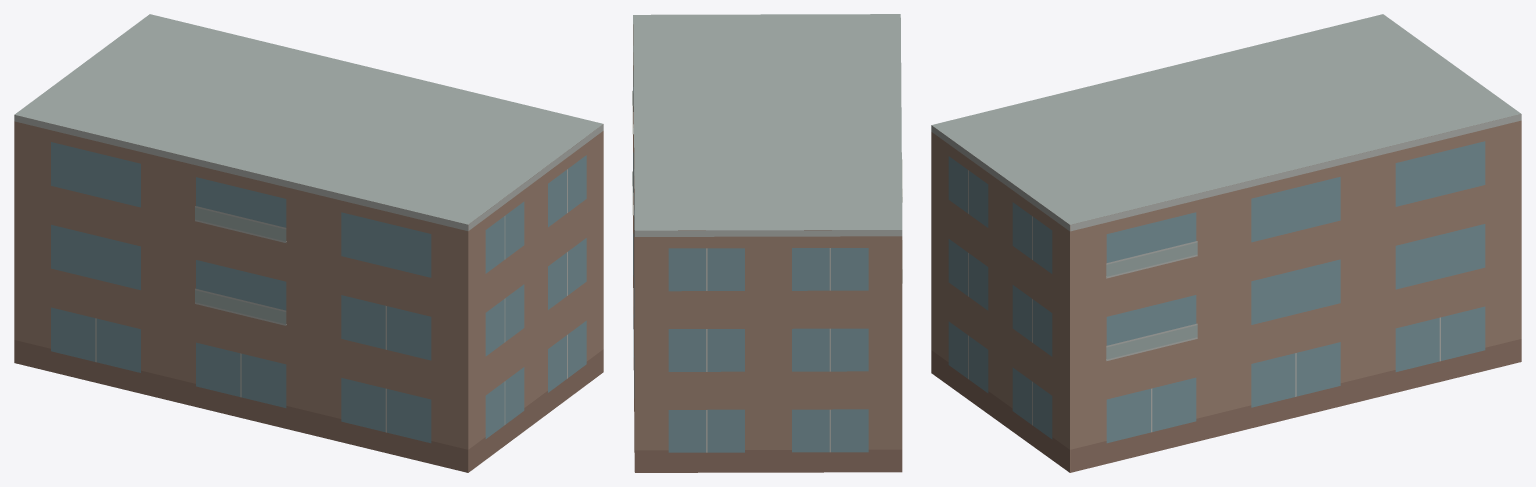
The model's file is survey-upis-33046042.glb.
3 renders of one model, left to right at view 1: azimuth 30°, elevation 25°; view 2: azimuth 150°, elevation 25°; view 3: azimuth 270°, elevation 25°, orthographic. The views are drawn at different scales.
Parts seen in each view (by area): view 1: survey-upis-33046042.tmp; view 2: survey-upis-33046042.tmp; view 3: survey-upis-33046042.tmp.
Boxes of the visible parts, x1=… form: survey-upis-33046042.tmp: x1=14, y1=14, x2=603, y2=472; survey-upis-33046042.tmp: x1=632, y1=14, x2=902, y2=472; survey-upis-33046042.tmp: x1=931, y1=14, x2=1521, y2=472.
Bounding box in the file's own units: 16.7 × 9.15 × 19.75.
